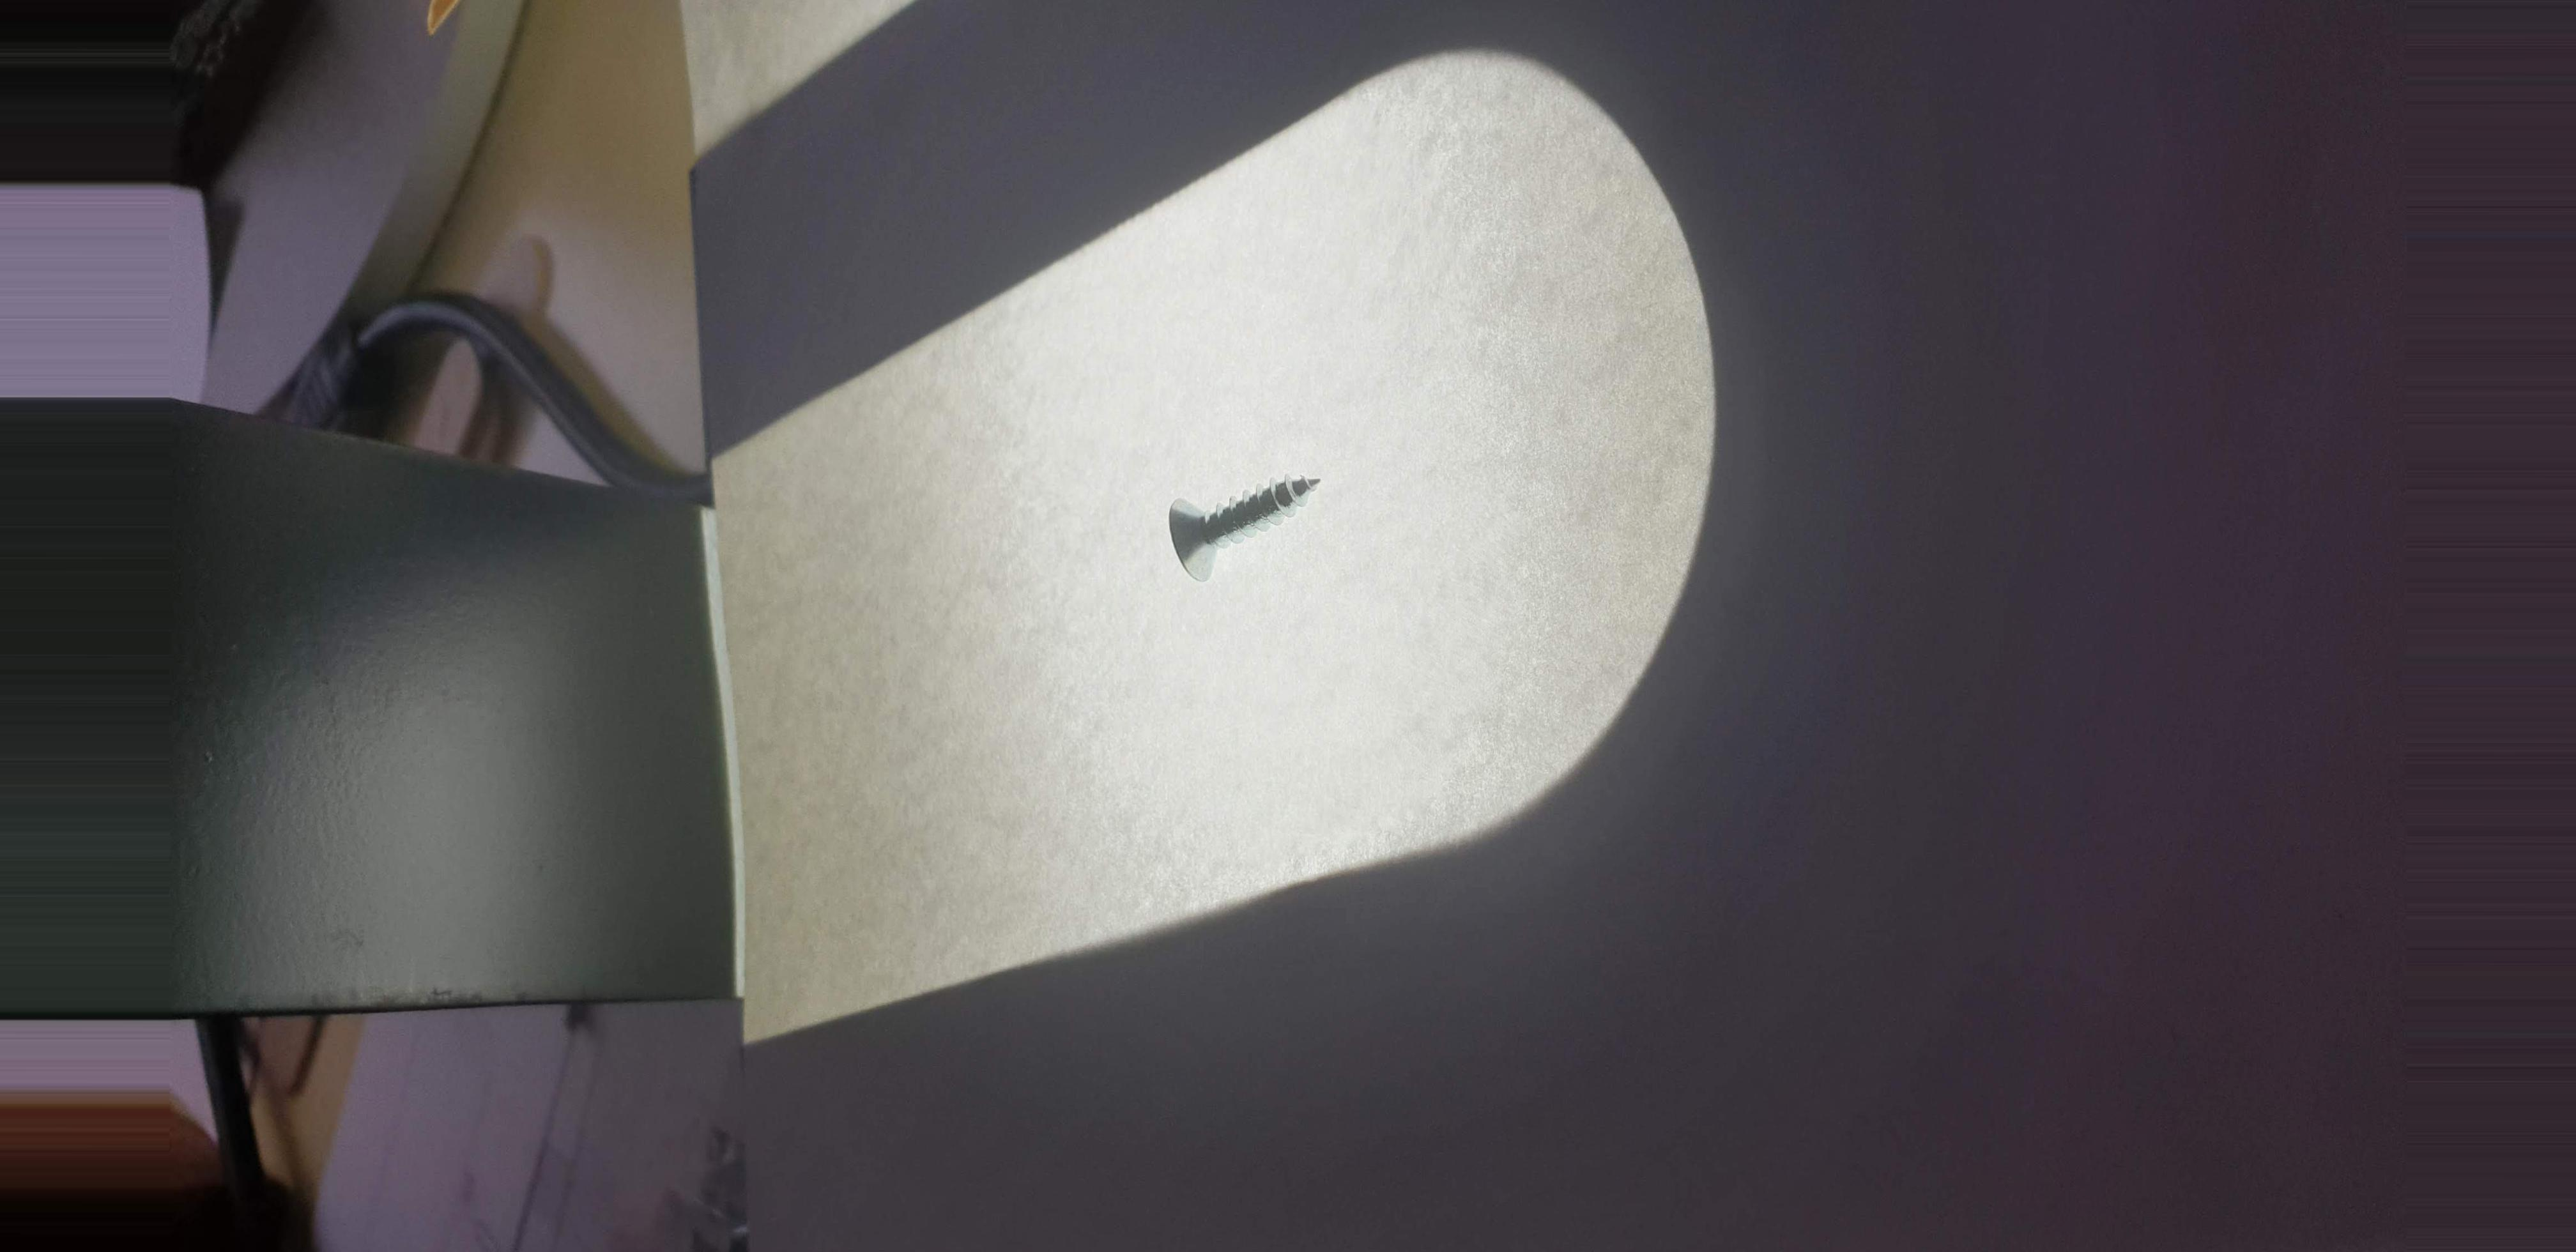S003: (1147, 455, 1339, 598)
